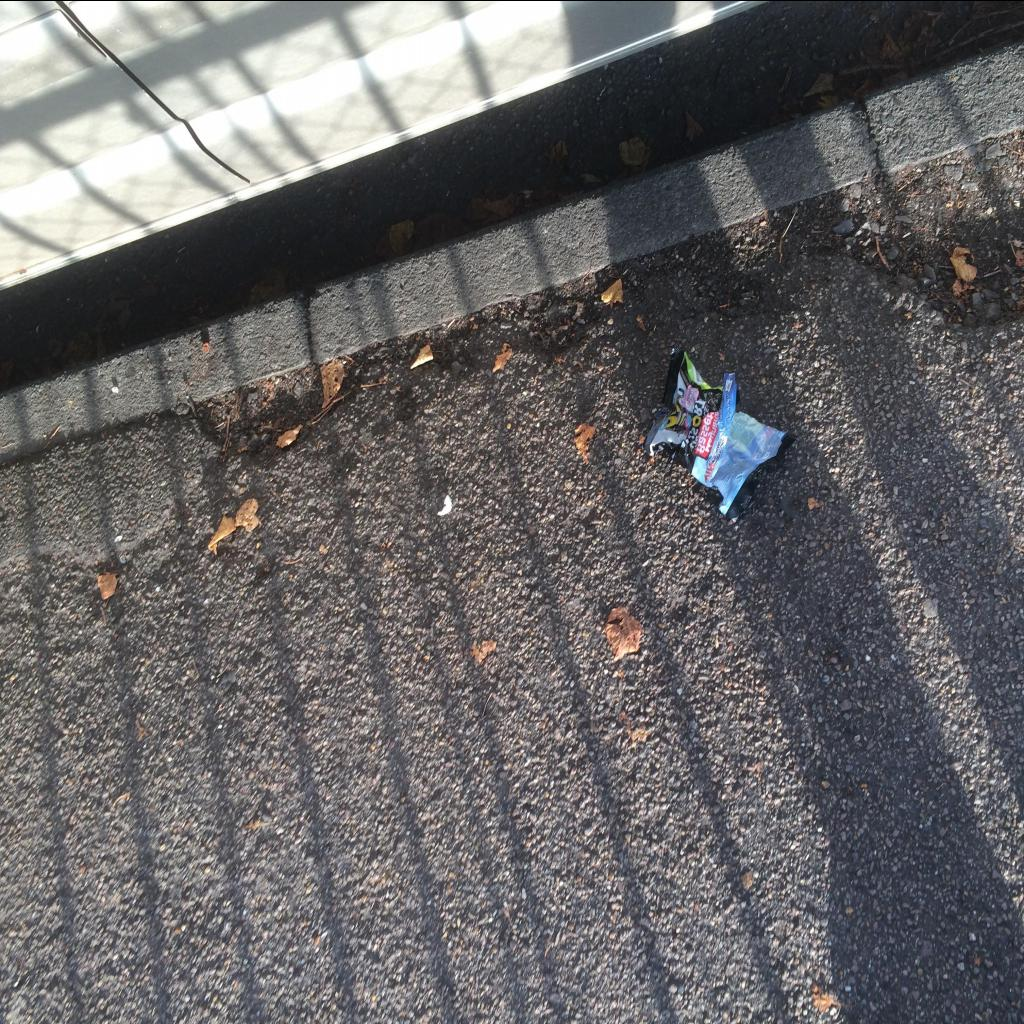Plastic film: (643, 346, 798, 524)
